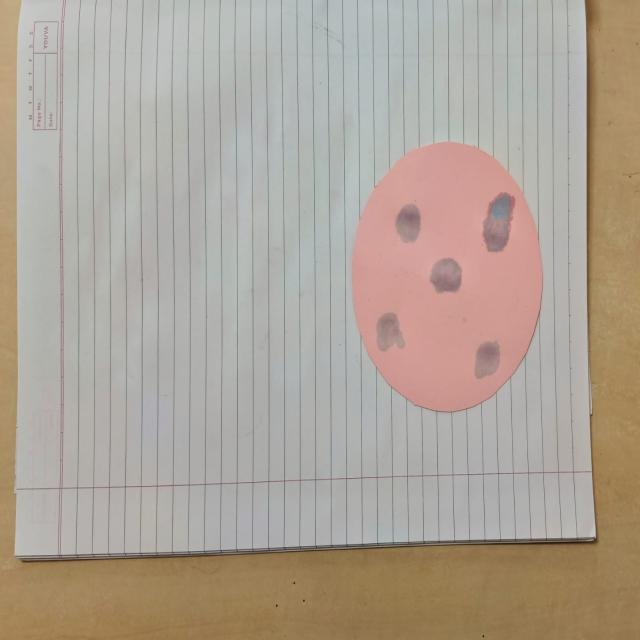BlueColor: (483, 193, 515, 252), (376, 312, 404, 351), (430, 258, 461, 292), (474, 340, 500, 378), (396, 203, 420, 242)
